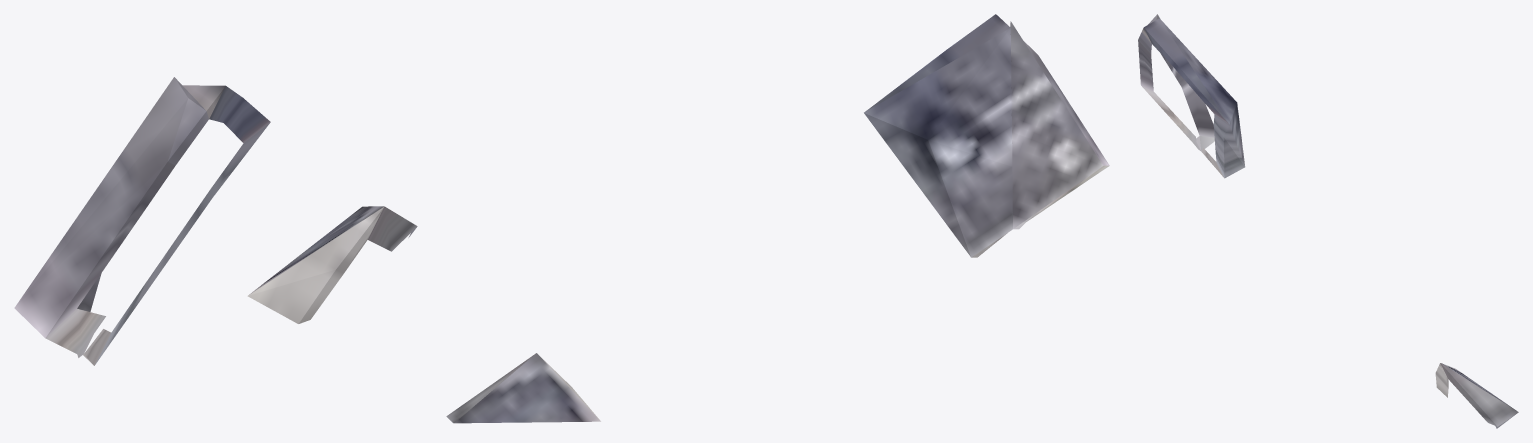
The picture shows the model from 3 angles, left to right: view 1: azimuth 30°, elevation 25°; view 2: azimuth 150°, elevation 25°; view 3: azimuth 270°, elevation 25°; orthographic projection. The views are drawn at different scales.
Size of the model in its own units: 23.02 by 16.65 by 20.54.
1 material, 1 textured.
